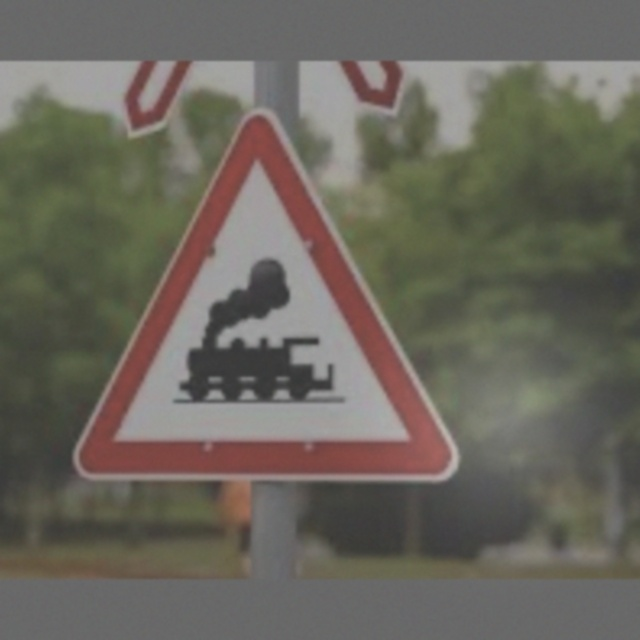Unguarded_Level_Crossing: (59, 124, 481, 488)
